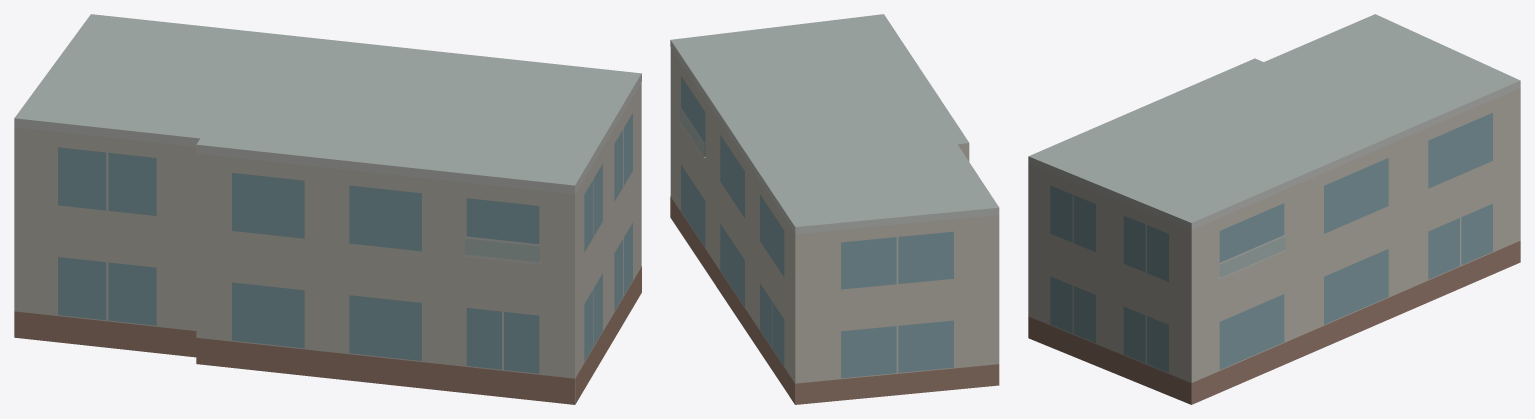
File: survey-upis-32979005.glb
3 views of the same model, side by side, from view 1: azimuth 30°, elevation 25°; view 2: azimuth 150°, elevation 25°; view 3: azimuth 270°, elevation 25° (orthographic). The views are drawn at different scales.
Parts seen in each view (by area): view 1: survey-upis-32979005.tmp; view 2: survey-upis-32979005.tmp; view 3: survey-upis-32979005.tmp.
Boxes of the visible parts, left/top/right/bottom form: survey-upis-32979005.tmp: left=14, top=14, right=641, bottom=404; survey-upis-32979005.tmp: left=670, top=14, right=999, bottom=404; survey-upis-32979005.tmp: left=1028, top=14, right=1520, bottom=404.
Size of the model in its own units: 15.04 by 6.1 by 14.97.
